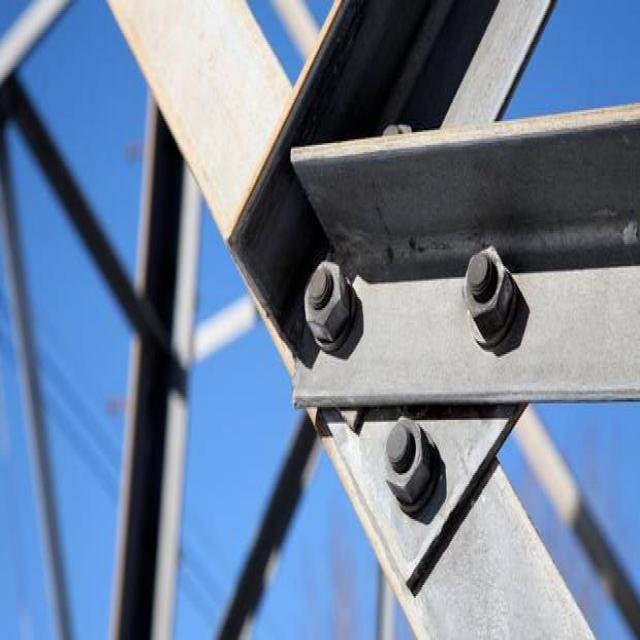bolt nut: (460, 240, 514, 339), (380, 411, 431, 506), (302, 258, 350, 344)
